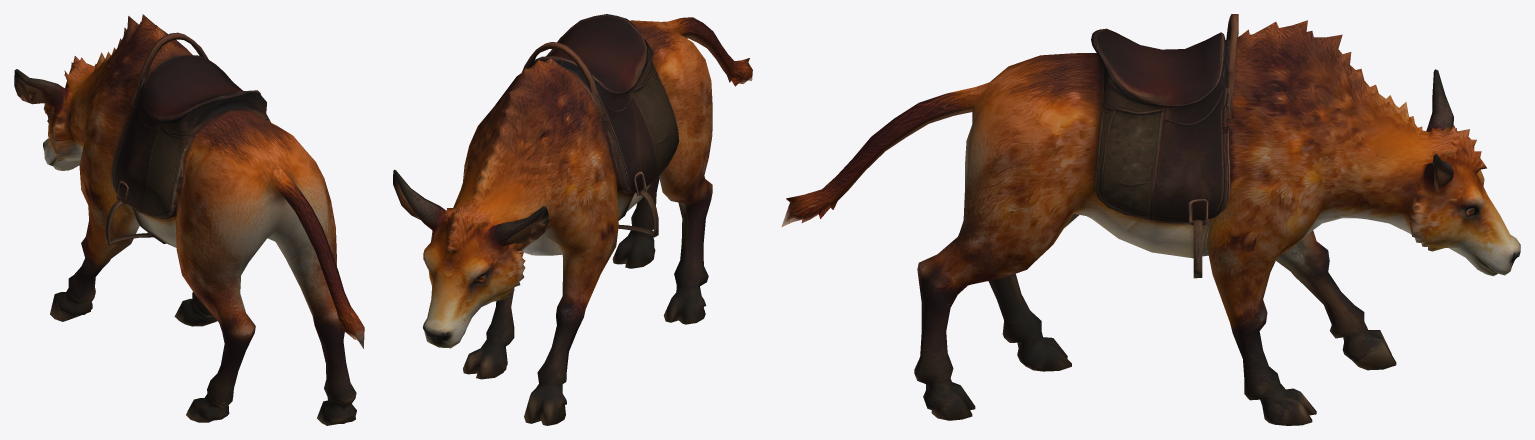
Rendered from 20260601_221557_A_full-body_stylized_quadrup.fbx.
3 renders of one model, left to right at view 1: azimuth 30°, elevation 25°; view 2: azimuth 150°, elevation 25°; view 3: azimuth 270°, elevation 25°, orthographic. The views are drawn at different scales.
Parts seen in each view (by area): view 1: tripo_node_2f6405aa; view 2: tripo_node_2f6405aa; view 3: tripo_node_2f6405aa.
Boxes of the visible parts, x1,y1,x2,y2 form: tripo_node_2f6405aa: (14,14,364,425); tripo_node_2f6405aa: (393,14,752,425); tripo_node_2f6405aa: (781,14,1520,425).
Size of the model in its own units: 0.3027 by 0.5527 by 0.998.
Materials: 1 (1 with a texture image).
